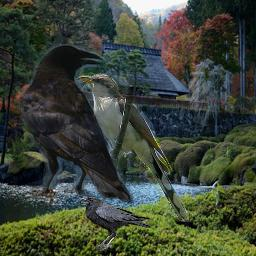Crow: (19, 44, 135, 208), (78, 196, 152, 251)
Cuckoo: (76, 73, 189, 222)
